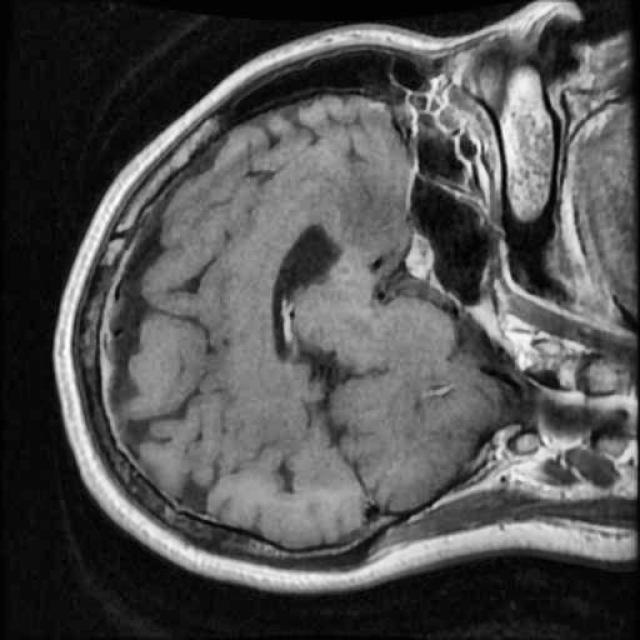Tumor: (391, 218, 442, 295)
